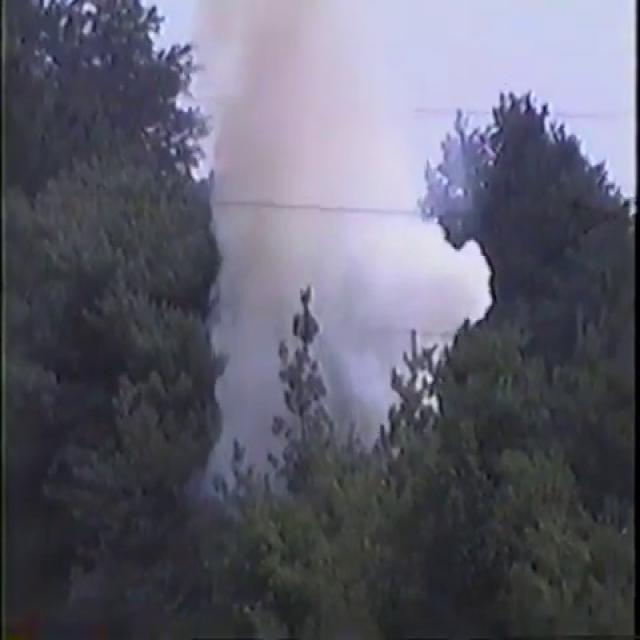Smoke: (168, 0, 496, 480)
